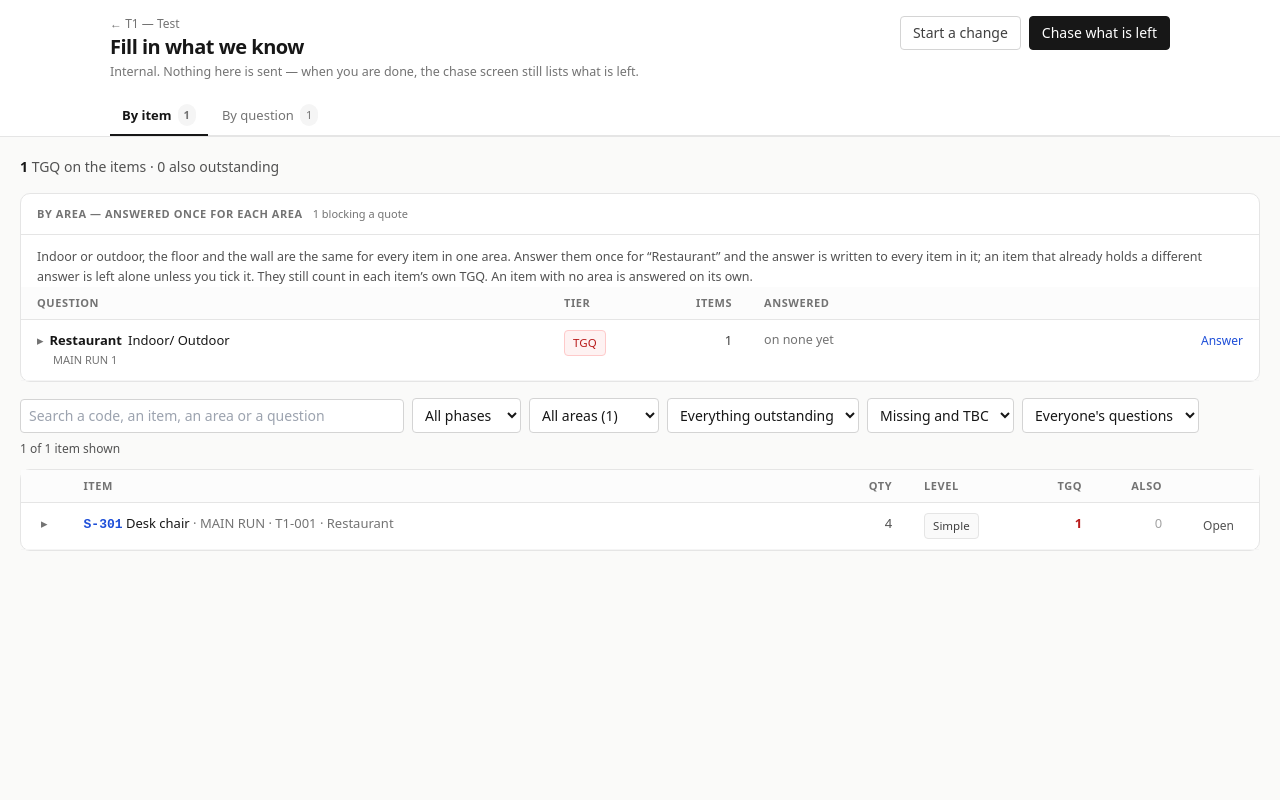
Test: the fill-in page › hands the By item phase filter to the area card
Select "MUR" in the dropdown named "Filter by phase": (466, 416) [412,398,521,433]
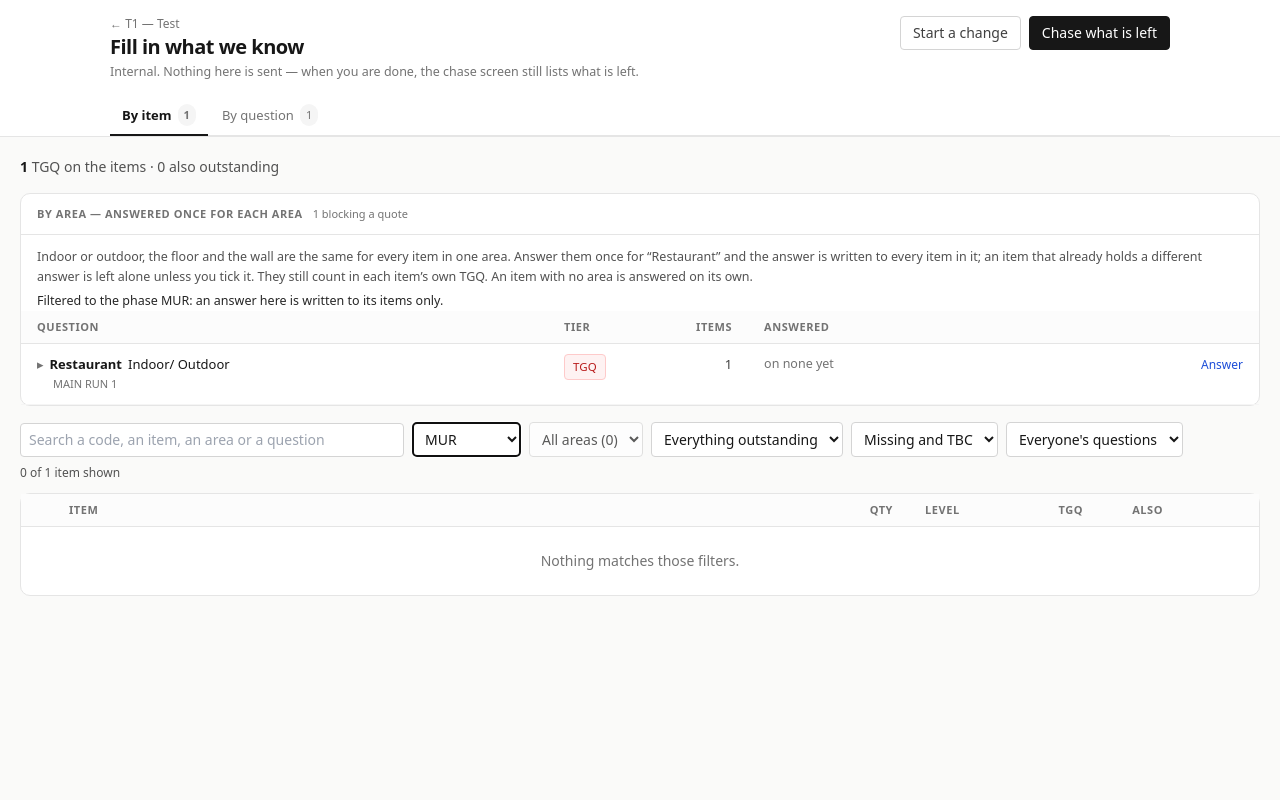
Now the text "Filtered to the phase MUR" is shown, box [37,292,443,309]
